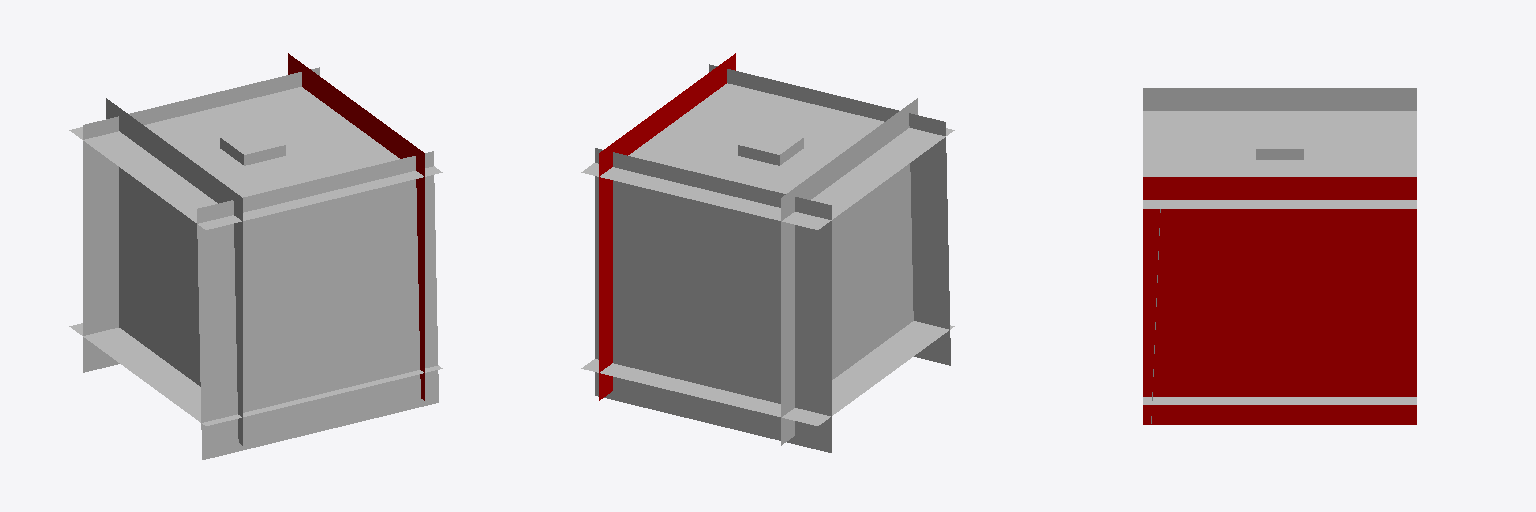
The model's file is cornell2.obj.
3 renders of one model, left to right at view 1: azimuth 30°, elevation 25°; view 2: azimuth 150°, elevation 25°; view 3: azimuth 270°, elevation 25°, orthographic.
Parts seen in each view (by area): view 1: Plane.005, Plane.001, Plane.002, Plane.004, Plane, Plane.003, Cube.001; view 2: Plane.004, Plane.001, Plane.002, Plane.005, Plane, Plane.003, Cube.001; view 3: Plane.003, Plane.001, Plane.002, Plane, Cube.001.
Part boxes in pixels (x1,y1,x2,y2): Plane.005: (197, 151, 438, 459); Plane.001: (69, 87, 442, 229); Plane.002: (106, 98, 242, 445); Plane.004: (83, 67, 319, 372); Plane: (69, 323, 442, 425); Plane.003: (288, 53, 424, 400); Cube.001: (220, 127, 285, 165); Plane.004: (595, 148, 831, 452); Plane.001: (581, 83, 954, 229); Plane.002: (781, 98, 917, 445); Plane.005: (709, 64, 950, 365); Plane: (581, 321, 954, 425); Plane.003: (599, 53, 735, 400); Cube.001: (738, 127, 803, 165); Plane.003: (1143, 177, 1416, 424); Plane.001: (1143, 111, 1416, 208); Plane.002: (1143, 88, 1416, 110); Plane: (1143, 397, 1416, 404); Cube.001: (1256, 129, 1303, 159).
Size of the model in its own units: 11.33 by 11.73 by 11.33.